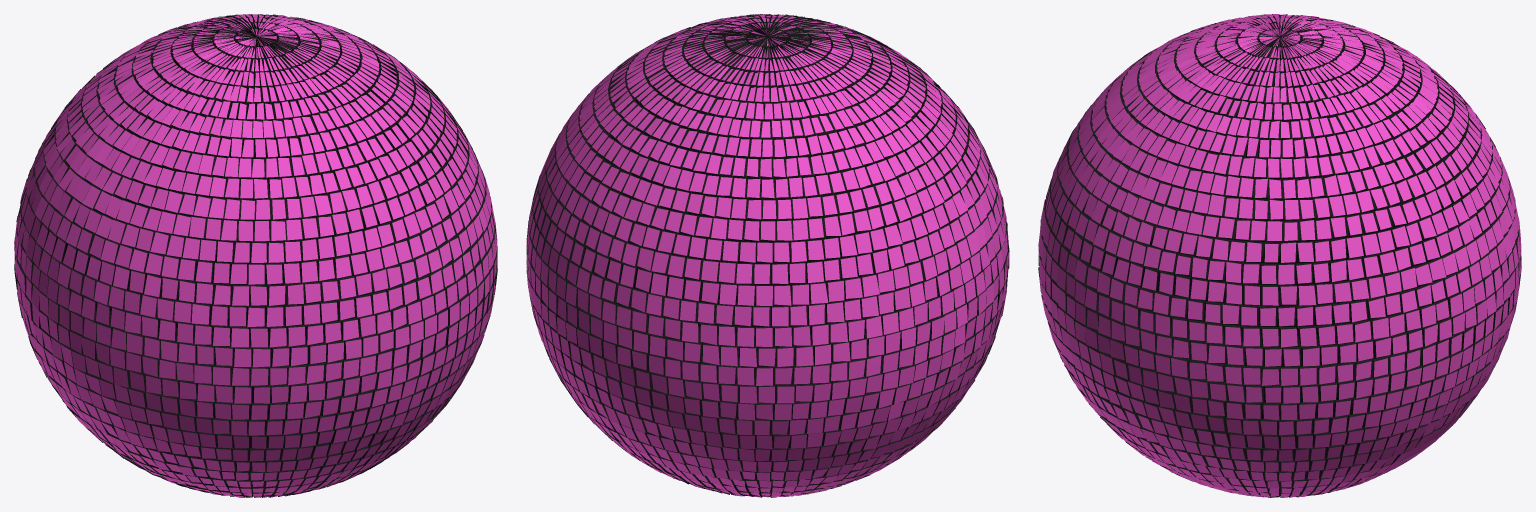
File: disco-ball.glb
The picture shows the model from 3 angles, left to right: view 1: azimuth 30°, elevation 25°; view 2: azimuth 150°, elevation 25°; view 3: azimuth 270°, elevation 25°; orthographic projection.
Parts seen in each view (by area): view 1: pSphere3_disco_mat_0, pSphere3_non_disco_mat_0; view 2: pSphere3_disco_mat_0, pSphere3_non_disco_mat_0; view 3: pSphere3_disco_mat_0, pSphere3_non_disco_mat_0.
Part boxes in pixels (x1,y1,x2,y2): pSphere3_disco_mat_0: (14,14,497,497); pSphere3_non_disco_mat_0: (14,14,497,497); pSphere3_disco_mat_0: (526,14,1008,497); pSphere3_non_disco_mat_0: (526,14,1009,497); pSphere3_disco_mat_0: (1038,14,1521,497); pSphere3_non_disco_mat_0: (1038,14,1521,497).
Size of the model in its own units: 2.02 by 2.02 by 2.02.
